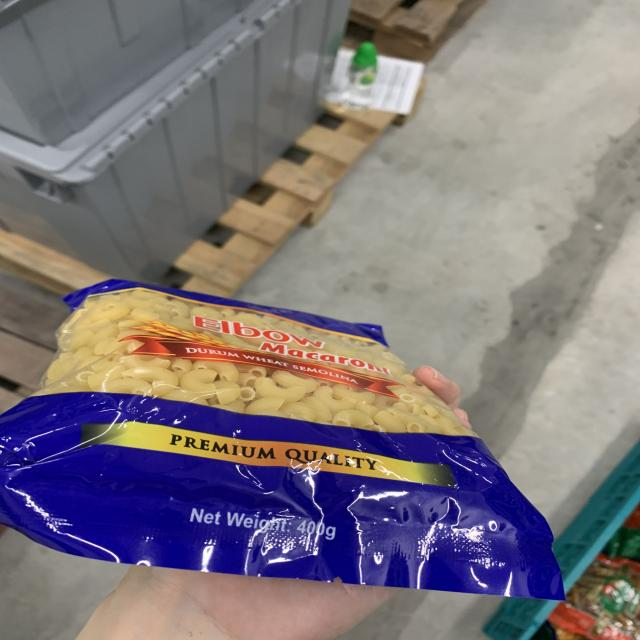object_name: (61, 289, 496, 562)
